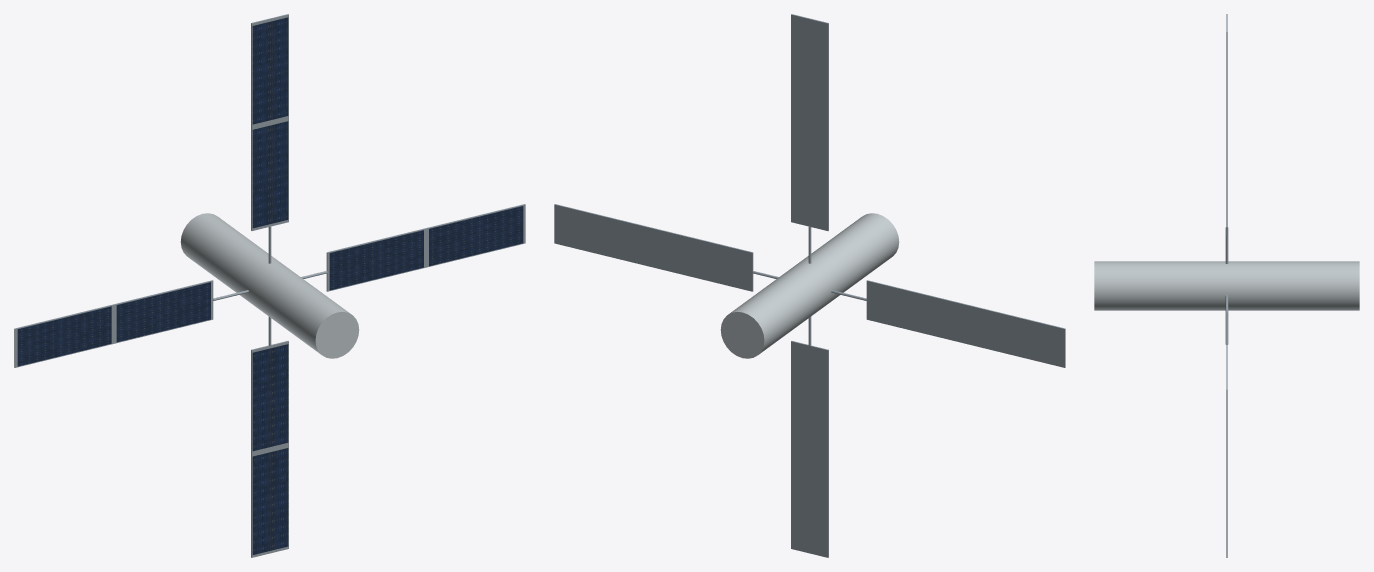
The model's file is ref-mts-6142.glb.
3 views of the same model, side by side, from view 1: azimuth 30°, elevation 25°; view 2: azimuth 150°, elevation 25°; view 3: azimuth 270°, elevation 25° (orthographic).
Parts seen in each view (by area): view 1: Photovoltaic laminates (×8), Spacecraft body, Array frame (×2); view 2: Array frame (×8), Spacecraft body; view 3: Spacecraft body.
Boxes of the visible parts, bbox=[...] form: Photovoltaic laminates (×8): bbox=[17, 17, 523, 554]; Spacecraft body: bbox=[180, 213, 359, 358]; Array frame (×2): bbox=[14, 228, 426, 367]; Array frame (×8): bbox=[554, 14, 1065, 557]; Spacecraft body: bbox=[720, 213, 899, 358]; Spacecraft body: bbox=[1094, 261, 1359, 310].
Bounding box in the file's own units: 7 × 7 × 3.2.
Materials: 3 (1 with a texture image).
